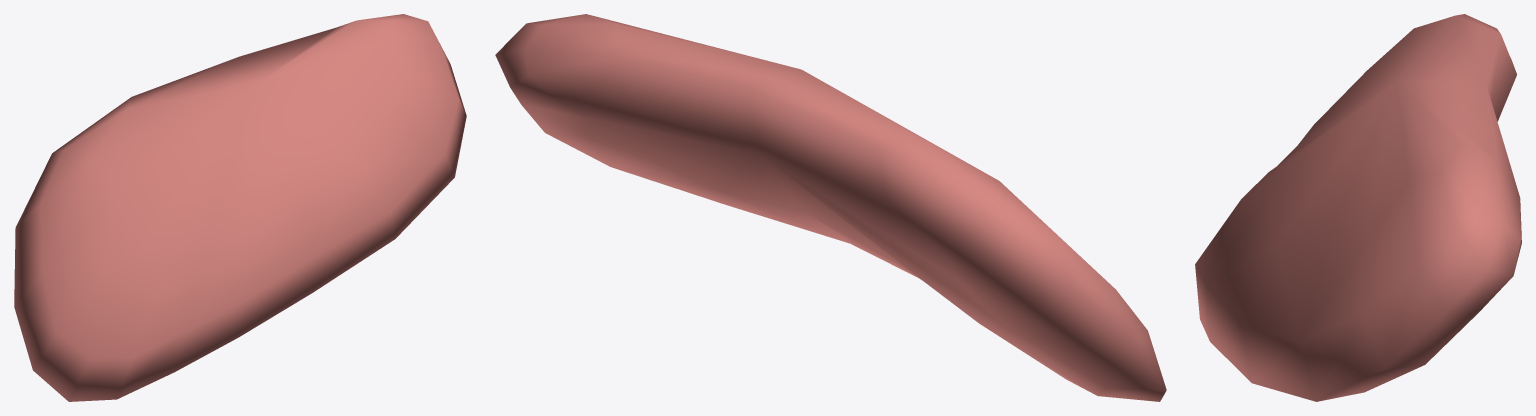
The picture shows the model from 3 angles, left to right: view 1: azimuth 30°, elevation 25°; view 2: azimuth 150°, elevation 25°; view 3: azimuth 270°, elevation 25°; orthographic projection. The views are drawn at different scales.
Parts seen in each view (by area): view 1: ZA_69cfb1b2b5570328; view 2: ZA_69cfb1b2b5570328; view 3: ZA_69cfb1b2b5570328.
Part boxes in pixels (box(x1,y1,x2,y2)): ZA_69cfb1b2b5570328: box(14, 14, 466, 401); ZA_69cfb1b2b5570328: box(495, 14, 1166, 401); ZA_69cfb1b2b5570328: box(1195, 14, 1521, 401).
Size of the model in its own units: 0.0032 by 0.00165 by 0.00124.
